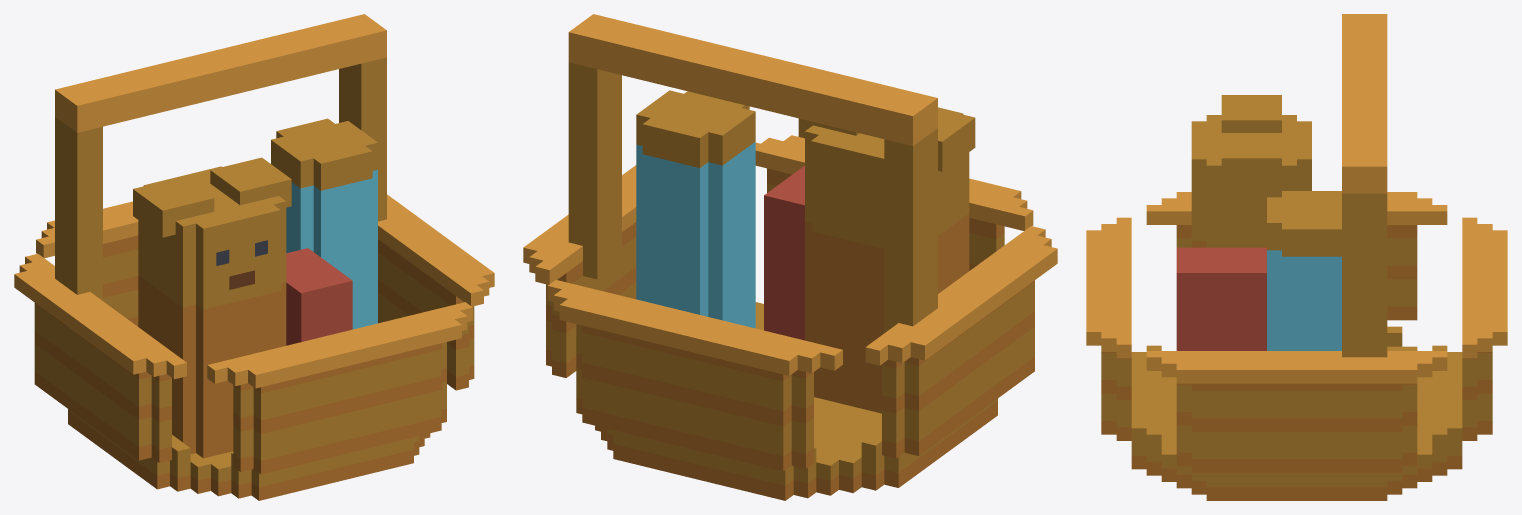
Rendered from voxel_32_30052.glb.
3 renders of one model, left to right at view 1: azimuth 30°, elevation 25°; view 2: azimuth 150°, elevation 25°; view 3: azimuth 270°, elevation 25°, orthographic. The views are drawn at different scales.
Parts seen in each view (by area): view 1: prop_30052; view 2: prop_30052; view 3: prop_30052.
Boxes of the visible parts, box(x1,y1,x2,y2) form: prop_30052: box(14, 14, 494, 500); prop_30052: box(523, 14, 1057, 500); prop_30052: box(1086, 14, 1507, 500).
Size of the model in its own units: 0.7262 by 0.6484 by 0.7262.
